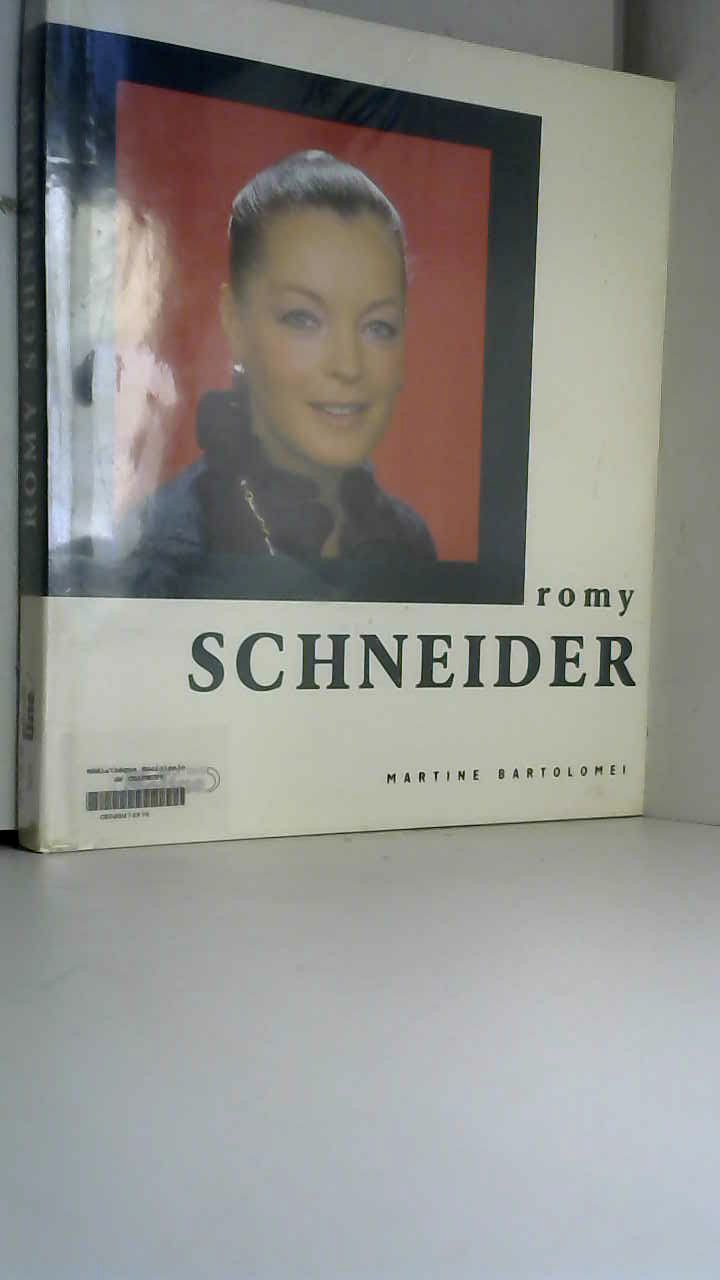book: (0, 0, 685, 882)
